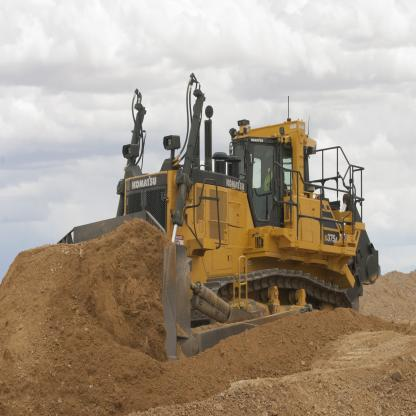bull_dozer/loader/grader: (36, 75, 388, 372)
